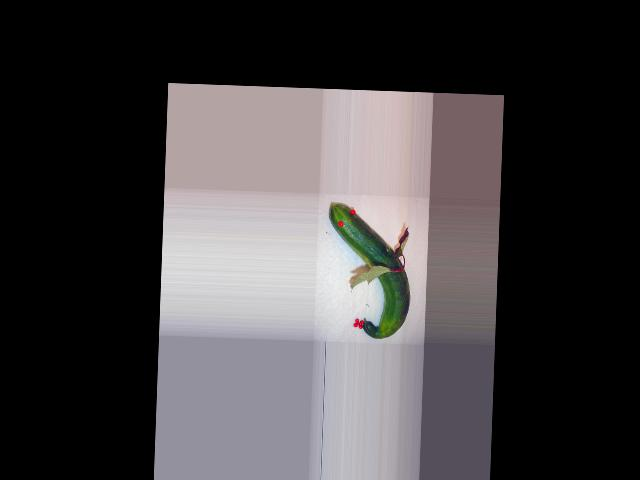cucumber: (324, 203, 413, 340)
